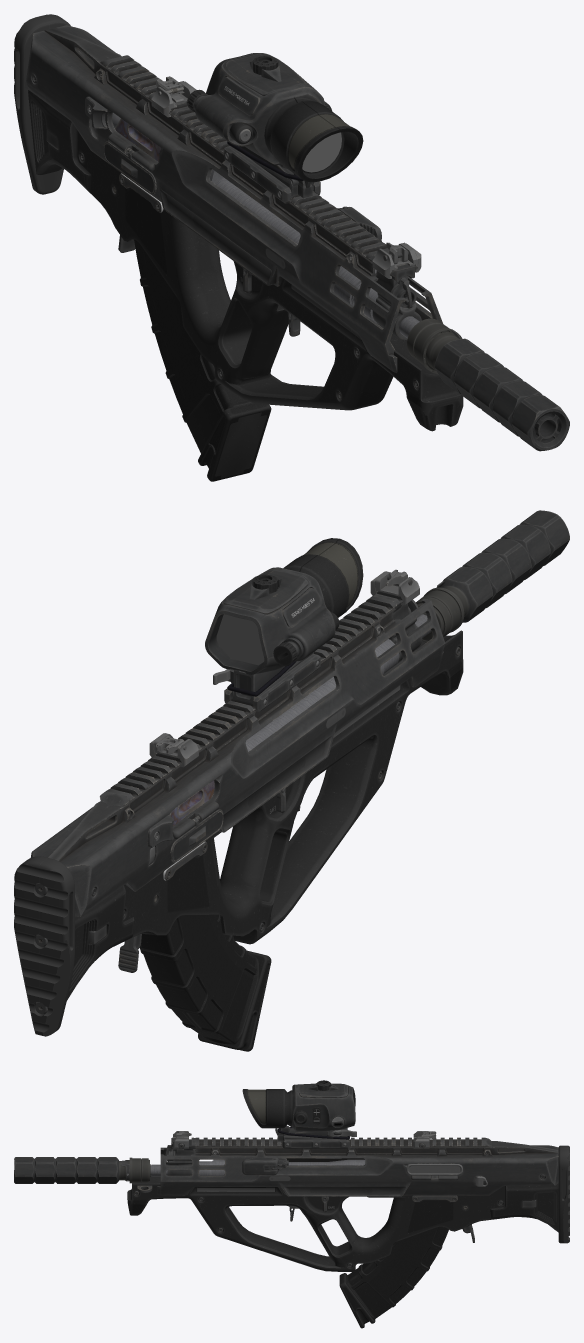
The model's file is sci-fi_bullpup_rifle.glb.
The picture shows the model from 3 angles, top to bottom: view 1: azimuth 30°, elevation 25°; view 2: azimuth 150°, elevation 25°; view 3: azimuth 270°, elevation 25°; orthographic projection. The views are drawn at different scales.
Parts seen in each view (by area): view 1: Rifle; view 2: Rifle; view 3: Rifle.
Part boxes in pixels (box(x1,y1,x2,y2)): Rifle: box(14, 14, 569, 481); Rifle: box(14, 510, 569, 1051); Rifle: box(14, 1080, 569, 1328).
Bounding box in the file's own units: 0.0761 × 0.3257 × 0.6805.
6 materials, 6 textured.
